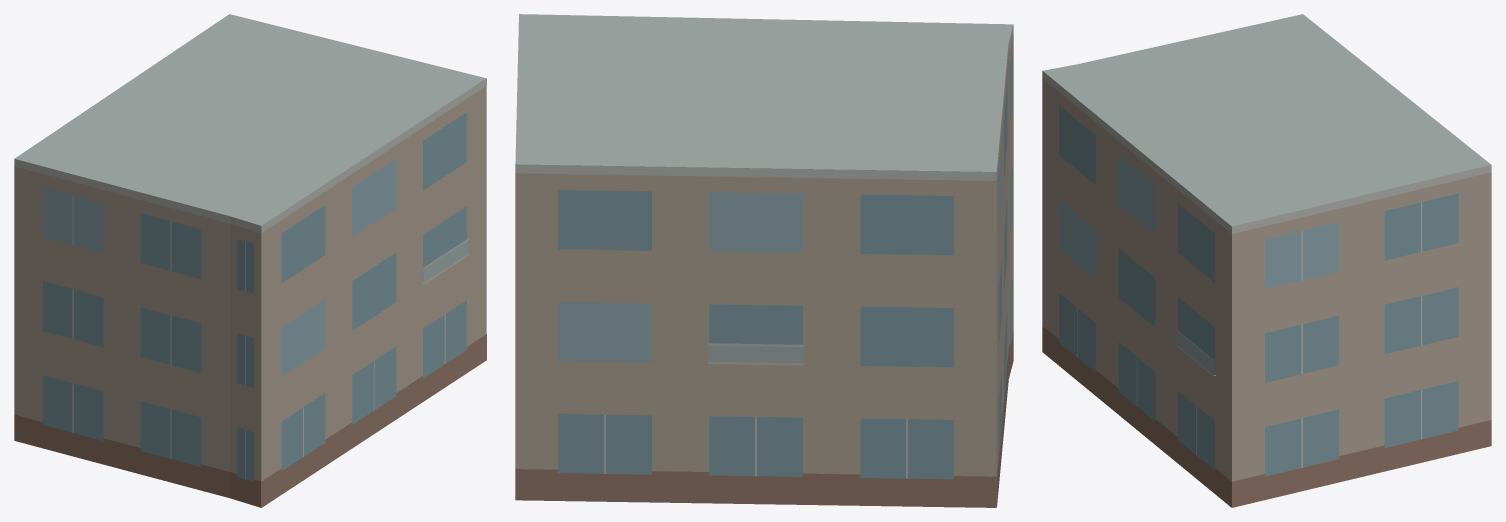
Rendered from survey-upis-32840620.glb.
3 renders of one model, left to right at view 1: azimuth 30°, elevation 25°; view 2: azimuth 150°, elevation 25°; view 3: azimuth 270°, elevation 25°, orthographic. The views are drawn at different scales.
Parts seen in each view (by area): view 1: survey-upis-32840620.tmp; view 2: survey-upis-32840620.tmp; view 3: survey-upis-32840620.tmp.
Part boxes in pixels (box(x1,y1,x2,y2)): survey-upis-32840620.tmp: box(14, 14, 486, 507); survey-upis-32840620.tmp: box(515, 14, 1013, 507); survey-upis-32840620.tmp: box(1042, 14, 1491, 507).
Size of the model in its own units: 14.84 by 9.15 by 13.25.
